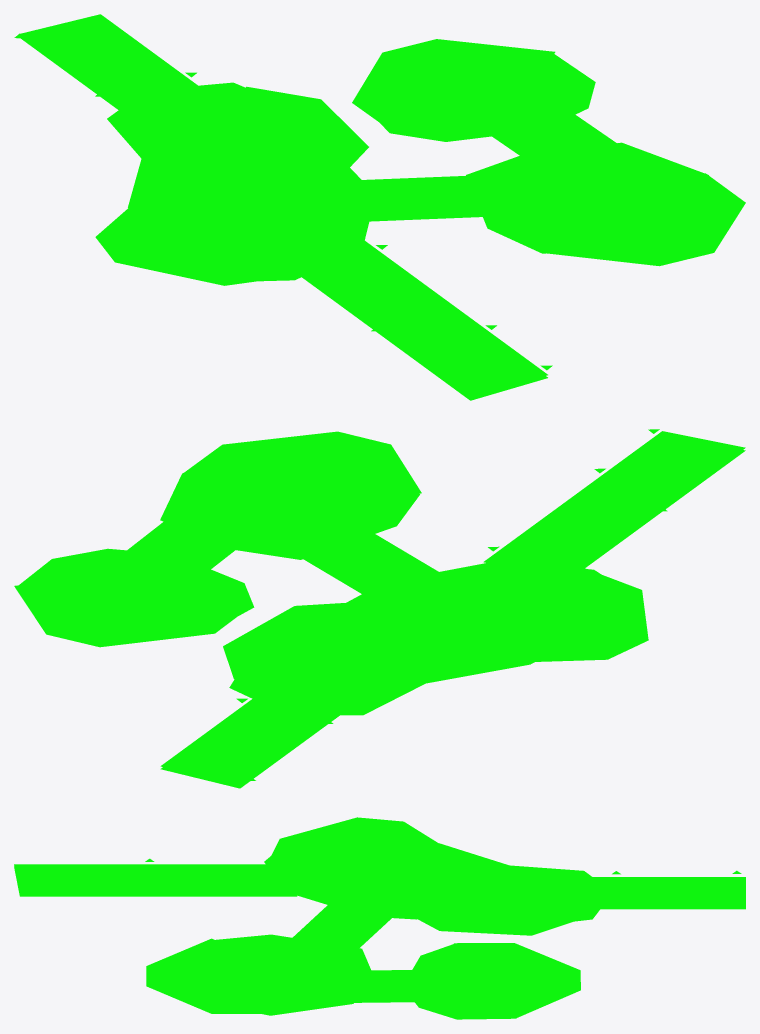
The model's file is s02b_ic3-floor.glb.
The picture shows the model from 3 angles, top to bottom: view 1: azimuth 30°, elevation 25°; view 2: azimuth 150°, elevation 25°; view 3: azimuth 270°, elevation 25°; orthographic projection. The views are drawn at different scales.
Parts seen in each view (by area): view 1: collision_floor-colonly; view 2: collision_floor-colonly; view 3: collision_floor-colonly.
Boxes of the visible parts, x1,y1,x2,y2 form: collision_floor-colonly: [14, 14, 745, 400]; collision_floor-colonly: [14, 429, 745, 788]; collision_floor-colonly: [14, 817, 745, 1019].
Size of the model in its own units: 39.99 by 0.416 by 61.53.
